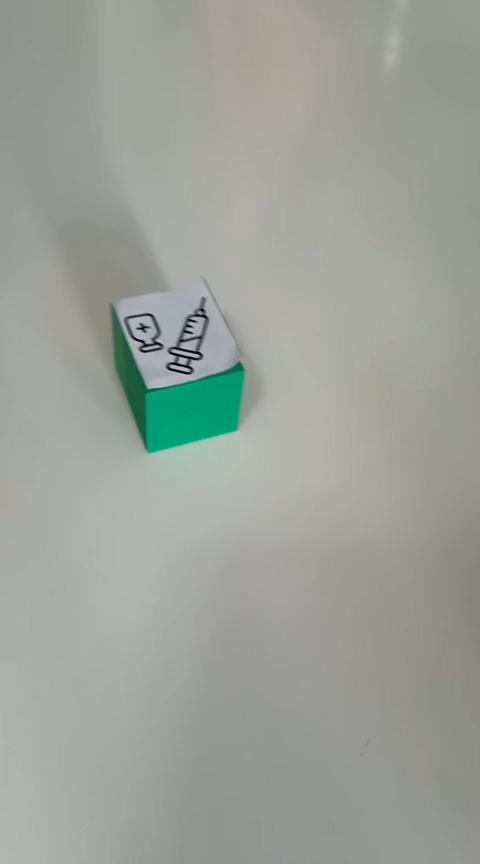antiseptic cream: (108, 274, 246, 453)
